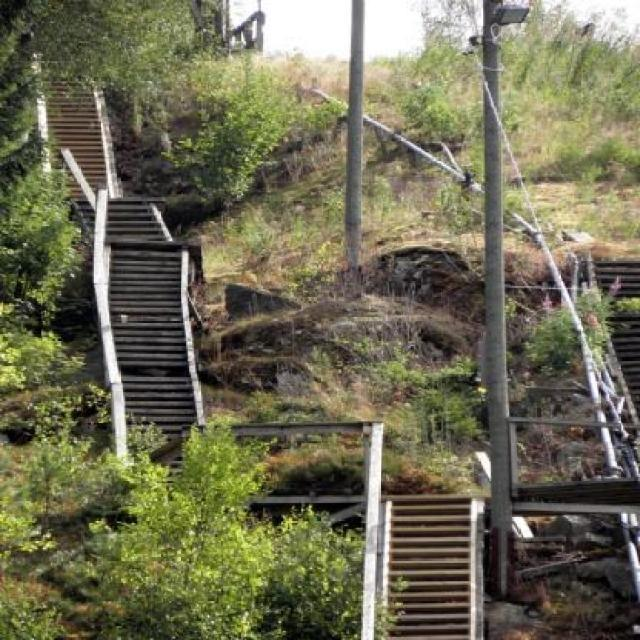stair: (31, 54, 640, 640)
